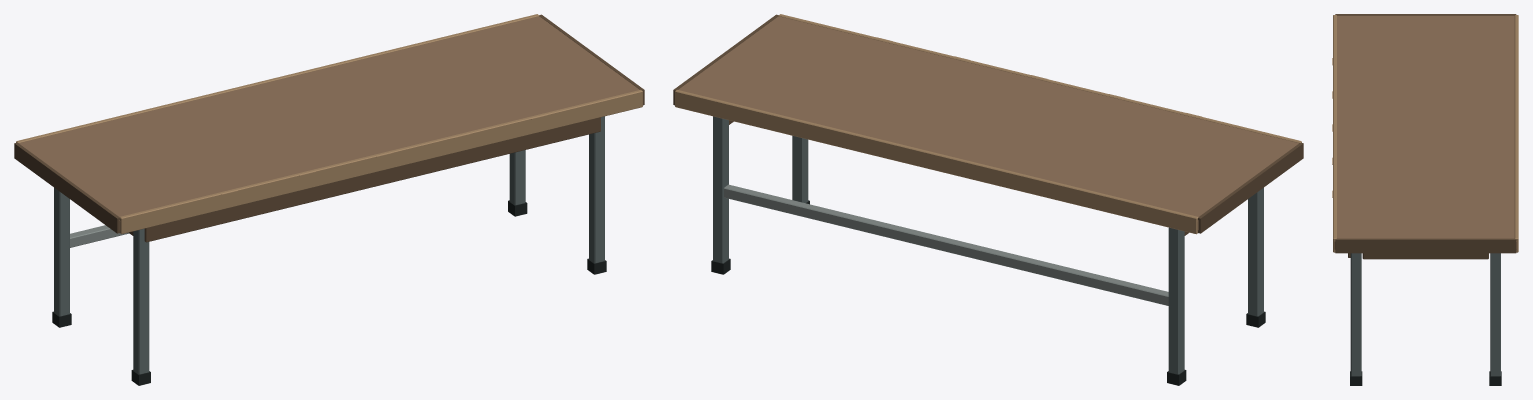
The model's file is school_computer_desk.glb.
3 views of the same model, side by side, from view 1: azimuth 30°, elevation 25°; view 2: azimuth 150°, elevation 25°; view 3: azimuth 270°, elevation 25° (orthographic). The views are drawn at different scales.
Visible parts, largest first — view 1: school_computer_desk__WornSchoolWood, school_computer_desk__ExposedWood, school_computer_desk__WoodWornDark, school_computer_desk__PaintedSteel, school_computer_desk__Rubber, school_computer_desk__WornSteelEdge; view 2: school_computer_desk__WornSchoolWood, school_computer_desk__ExposedWood, school_computer_desk__PaintedSteel, school_computer_desk__WornSteelEdge, school_computer_desk__WoodWornDark, school_computer_desk__Rubber; view 3: school_computer_desk__WornSchoolWood, school_computer_desk__WoodWornDark, school_computer_desk__PaintedSteel, school_computer_desk__ExposedWood, school_computer_desk__Rubber.
Boxes of the visible parts, box(x1,y1,x2,y2) form: school_computer_desk__WornSchoolWood: box(19, 16, 639, 230); school_computer_desk__ExposedWood: box(16, 14, 642, 234); school_computer_desk__WoodWornDark: box(14, 14, 644, 242); school_computer_desk__PaintedSteel: box(54, 116, 604, 374); school_computer_desk__Rubber: box(52, 200, 606, 385); school_computer_desk__WornSteelEdge: box(70, 225, 129, 247); school_computer_desk__WornSchoolWood: box(678, 16, 1298, 230); school_computer_desk__ExposedWood: box(675, 14, 1301, 234); school_computer_desk__PaintedSteel: box(713, 116, 1263, 374); school_computer_desk__WornSteelEdge: box(724, 184, 1168, 305); school_computer_desk__WoodWornDark: box(673, 14, 1303, 235); school_computer_desk__Rubber: box(711, 200, 1265, 385); school_computer_desk__WornSchoolWood: box(1334, 15, 1516, 249); school_computer_desk__WoodWornDark: box(1335, 14, 1516, 259); school_computer_desk__PaintedSteel: box(1350, 253, 1500, 376); school_computer_desk__ExposedWood: box(1332, 15, 1518, 252); school_computer_desk__Rubber: box(1350, 371, 1501, 385).
Size of the model in its own units: 2.45 by 0.8065 by 0.8555.
